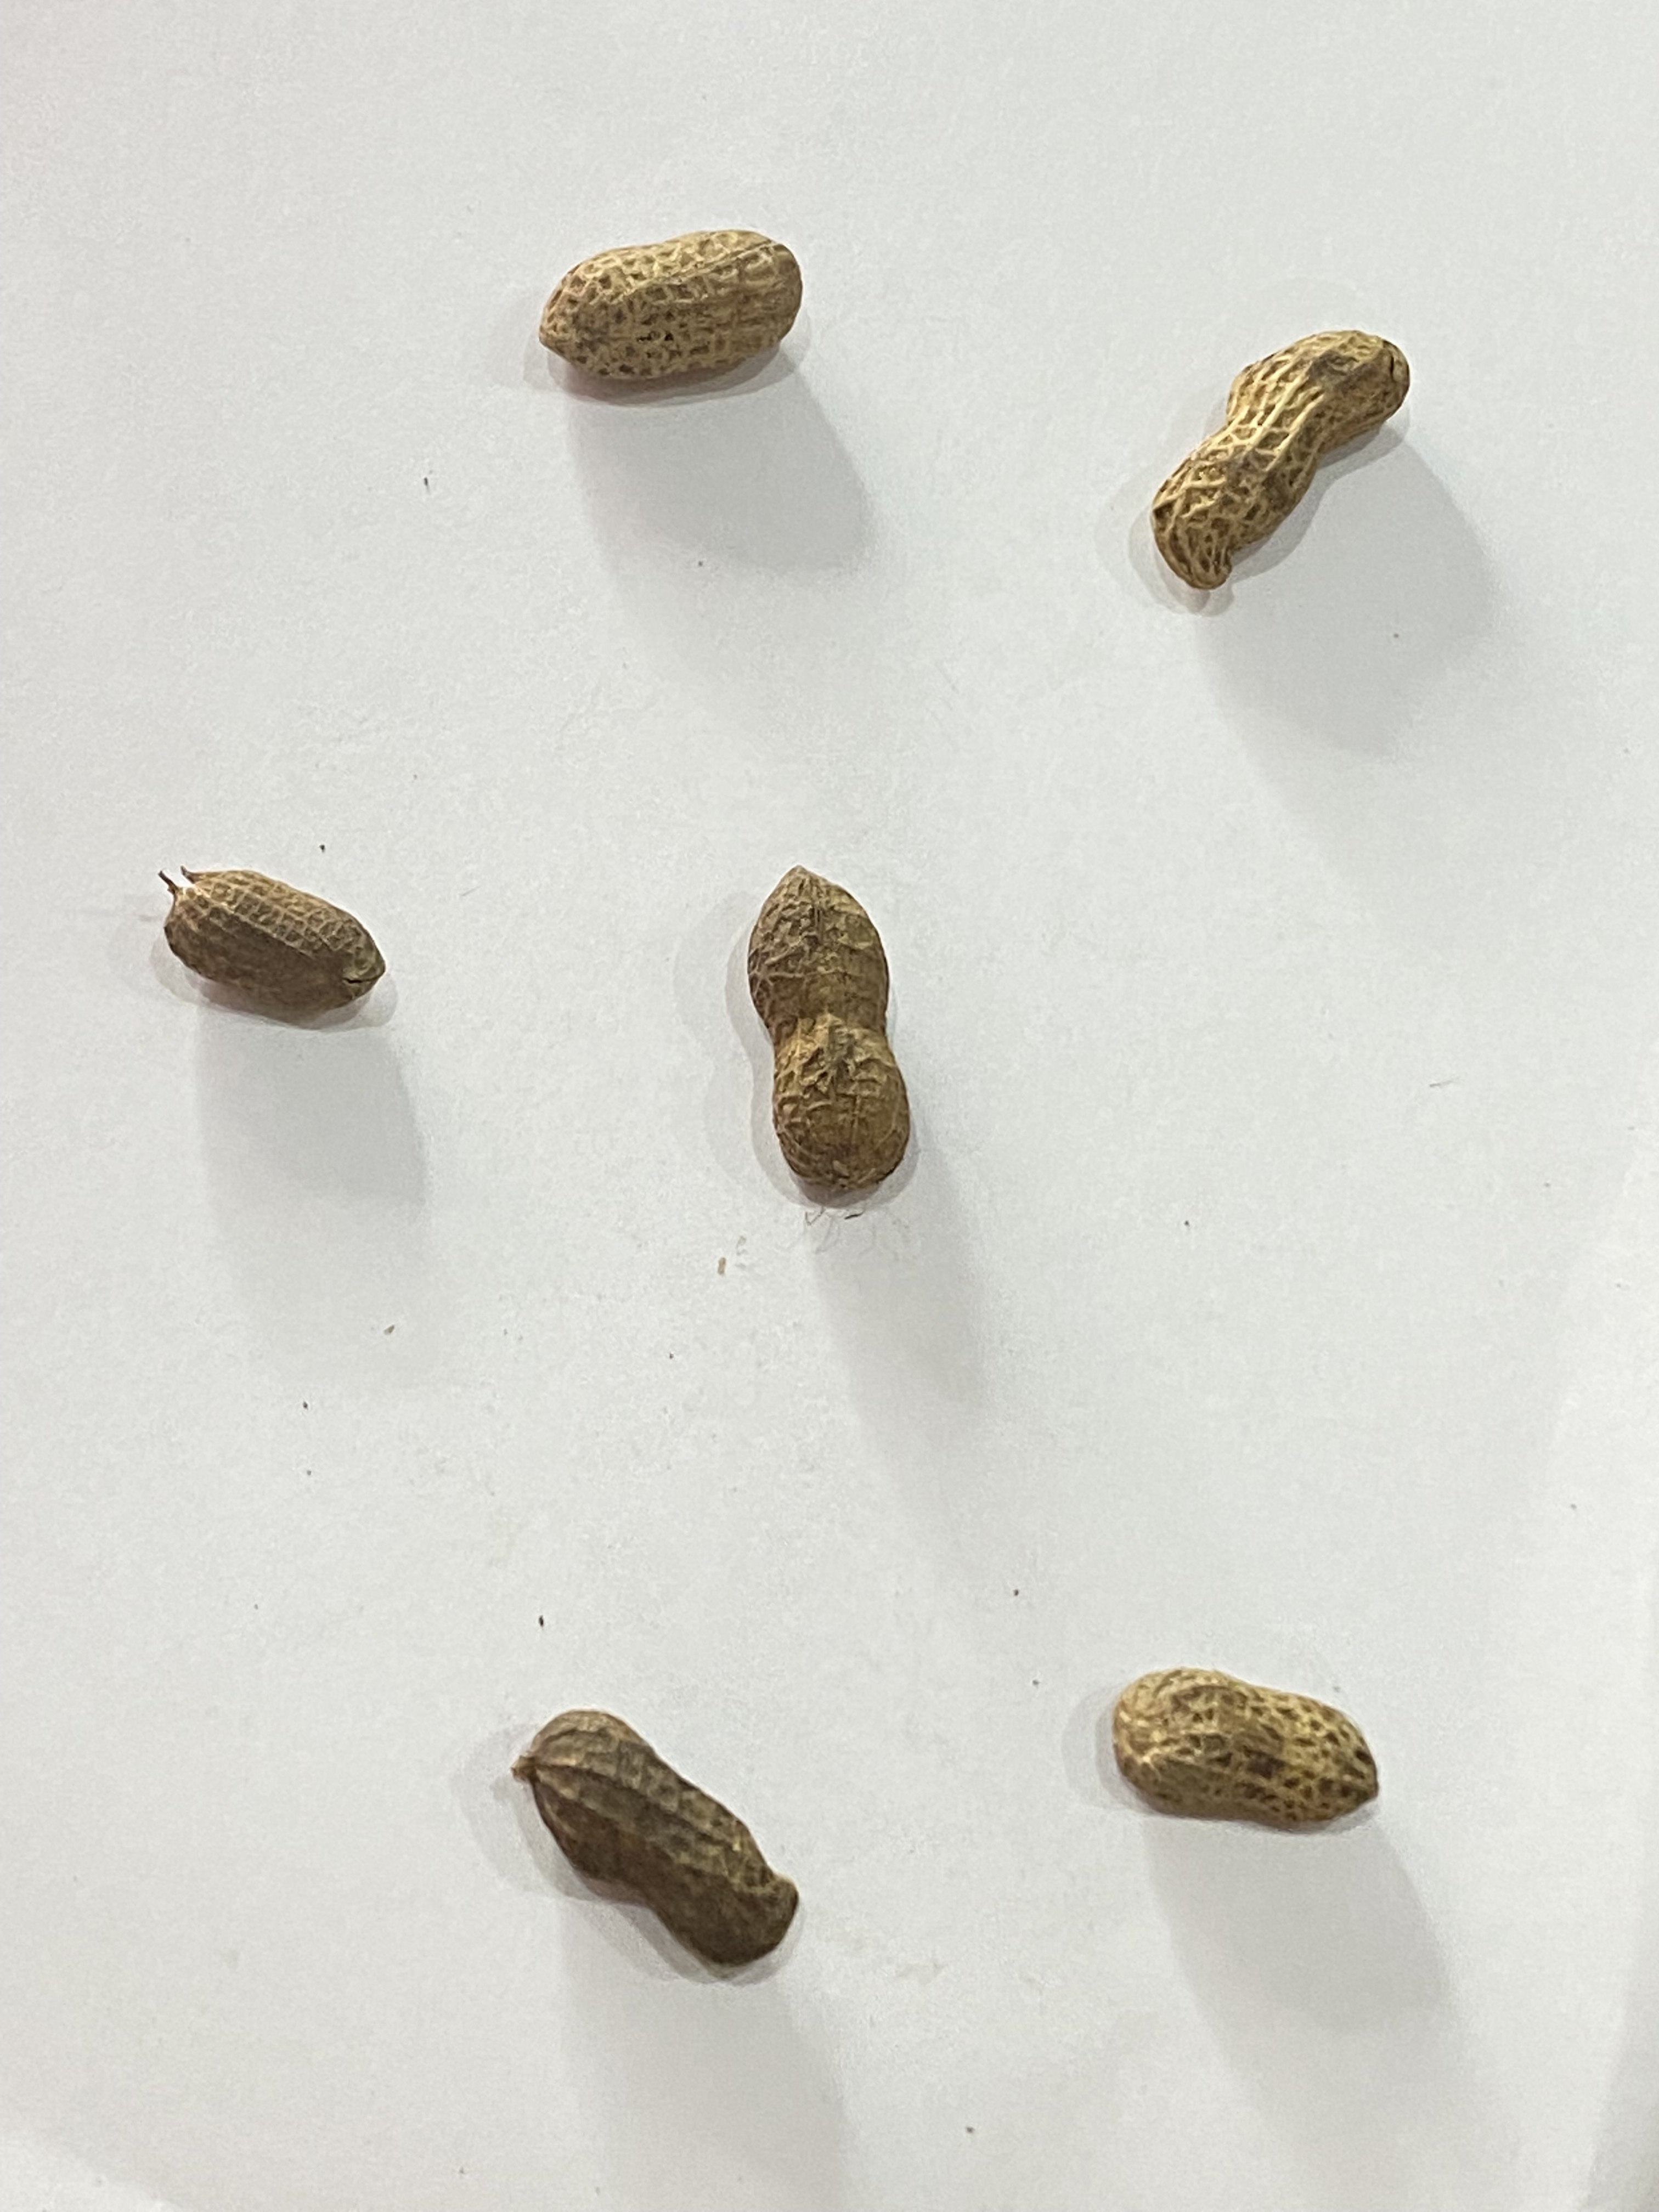kacang1: (124, 833, 396, 1028)
kacang2: (1136, 266, 1455, 615), (481, 1696, 807, 1966), (714, 829, 941, 1209), (530, 218, 854, 395), (1087, 1658, 1398, 1843)
